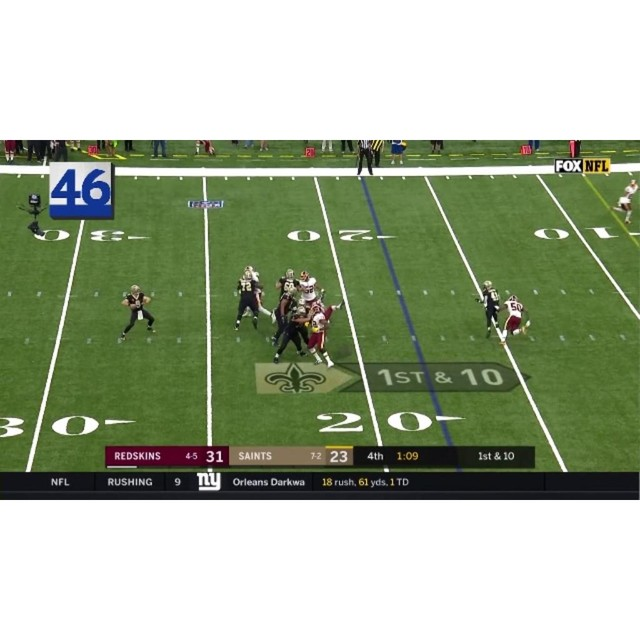american-football-player: (119, 284, 156, 342), (273, 305, 310, 362), (307, 307, 334, 368), (477, 280, 504, 341), (234, 271, 261, 331), (270, 288, 297, 345), (500, 295, 529, 342), (610, 179, 638, 225), (298, 270, 323, 309), (275, 268, 296, 296)
referee: (356, 140, 374, 175)
